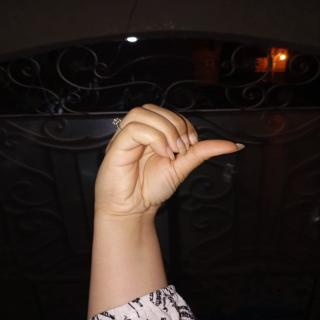WAW: (77, 100, 255, 233)
